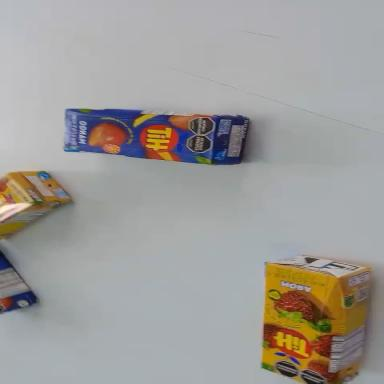HIT-MANGO: (64, 106, 250, 166), (1, 251, 38, 314)
HIT-MORA: (258, 252, 371, 384), (0, 151, 73, 241)
cara_F: (255, 263, 340, 384), (64, 110, 218, 165), (0, 168, 37, 223)
